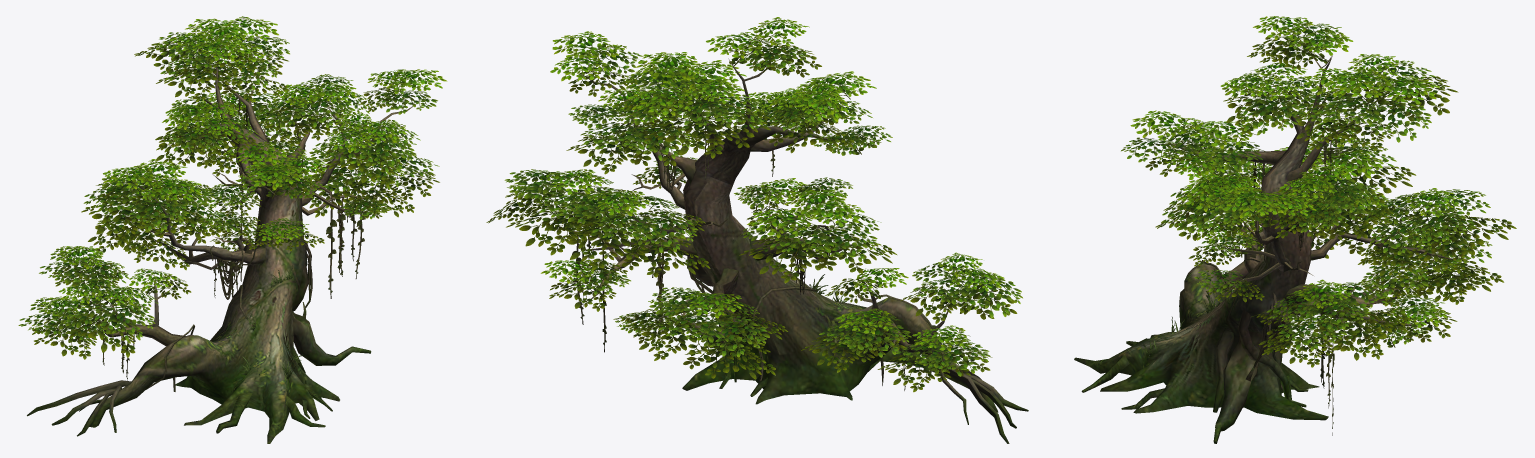
The model's file is S_Tree_Green133.FBX.
3 renders of one model, left to right at view 1: azimuth 30°, elevation 25°; view 2: azimuth 150°, elevation 25°; view 3: azimuth 270°, elevation 25°, orthographic. The views are drawn at different scales.
Visible parts, largest first — view 1: S_Tree_Green133; view 2: S_Tree_Green133; view 3: S_Tree_Green133.
Part boxes in pixels (x1=…): S_Tree_Green133: x1=18, y1=16, x2=447, y2=443; S_Tree_Green133: x1=486, y1=17, x2=1028, y2=443; S_Tree_Green133: x1=1074, y1=16, x2=1516, y2=443.
Bounding box in the file's own units: 414 × 300 × 330.
